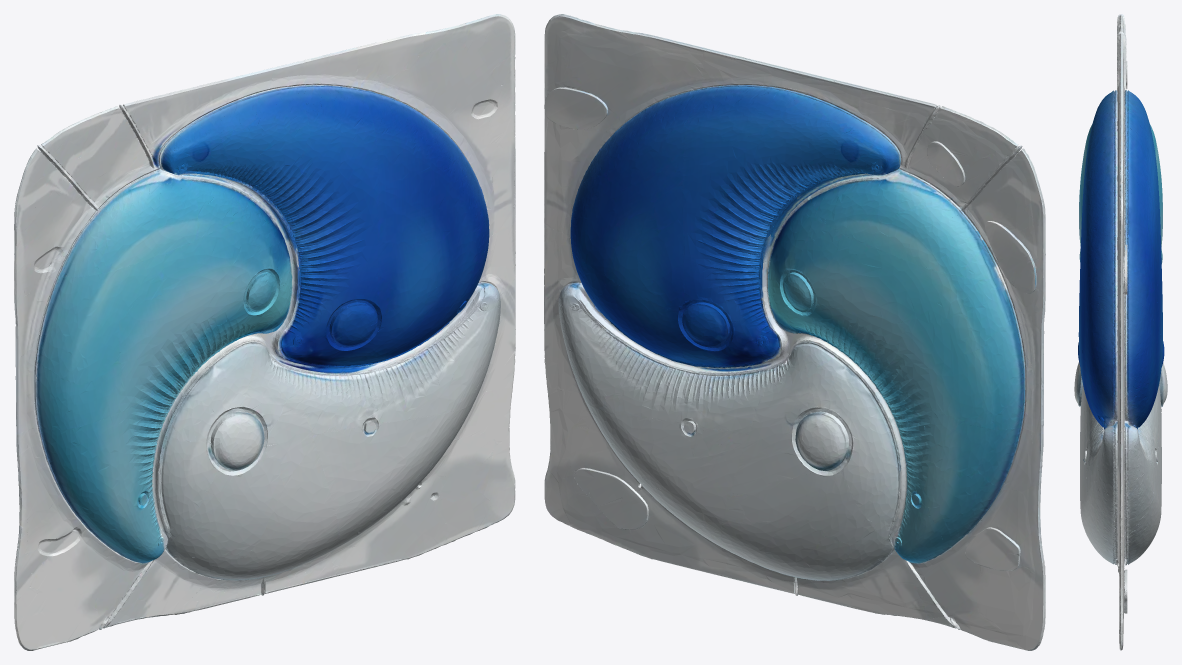
The model's file is compressed_1758509853615_aqua.glb.
The picture shows the model from 3 angles, left to right: view 1: azimuth 30°, elevation 25°; view 2: azimuth 150°, elevation 25°; view 3: azimuth 270°, elevation 25°; orthographic projection. The views are drawn at different scales.
Parts seen in each view (by area): view 1: tmpvhff14e2.obj; view 2: tmpvhff14e2.obj; view 3: tmpvhff14e2.obj.
Part boxes in pixels (<box>): tmpvhff14e2.obj: <box>14,14,515,650</box>; tmpvhff14e2.obj: <box>544,14,1045,650</box>; tmpvhff14e2.obj: <box>1074,14,1167,650</box>.
Size of the model in its own units: 1.45 by 1.45 by 0.2606.
1 material, 1 textured.
